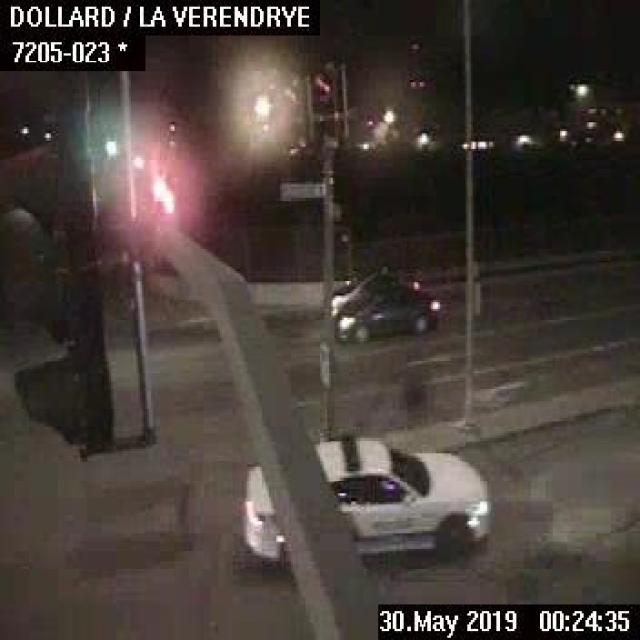vehicle: (237, 431, 495, 569), (329, 282, 438, 340), (330, 268, 425, 318)
